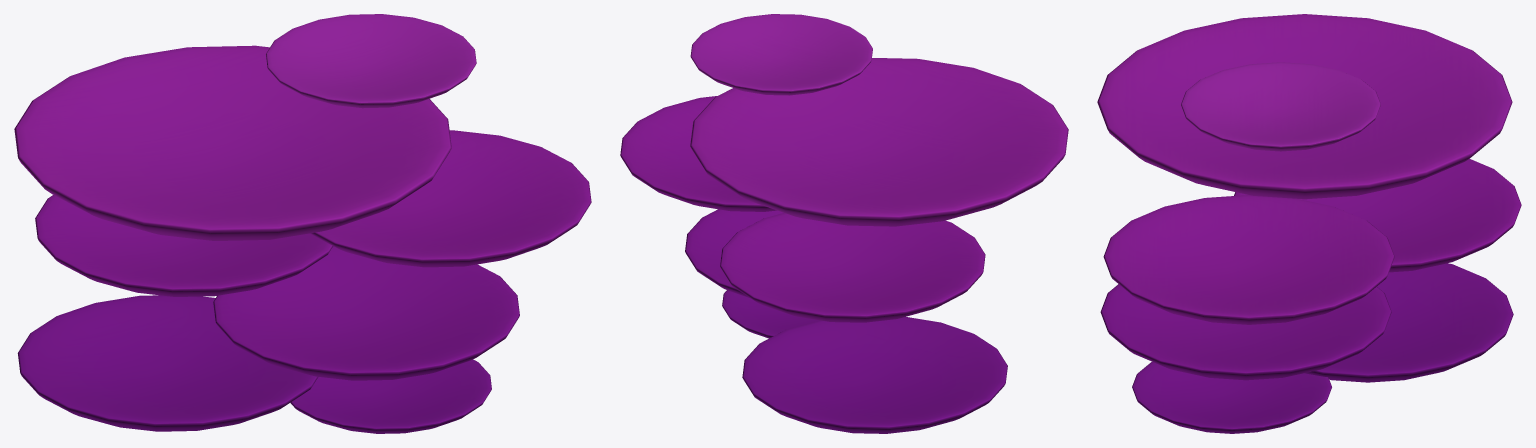
Rendered from SM_Muchrooms_02.fbx.
3 renders of one model, left to right at view 1: azimuth 30°, elevation 25°; view 2: azimuth 150°, elevation 25°; view 3: azimuth 270°, elevation 25°, orthographic. The views are drawn at different scales.
Visible parts, largest first — view 1: pasted__pSphere80; view 2: pasted__pSphere80; view 3: pasted__pSphere80.
Part boxes in pixels (x1=…): pasted__pSphere80: x1=14, y1=14, x2=591, y2=433; pasted__pSphere80: x1=620, y1=14, x2=1068, y2=433; pasted__pSphere80: x1=1097, y1=14, x2=1521, y2=433.
Size of the model in its own units: 192 by 126 by 149.
